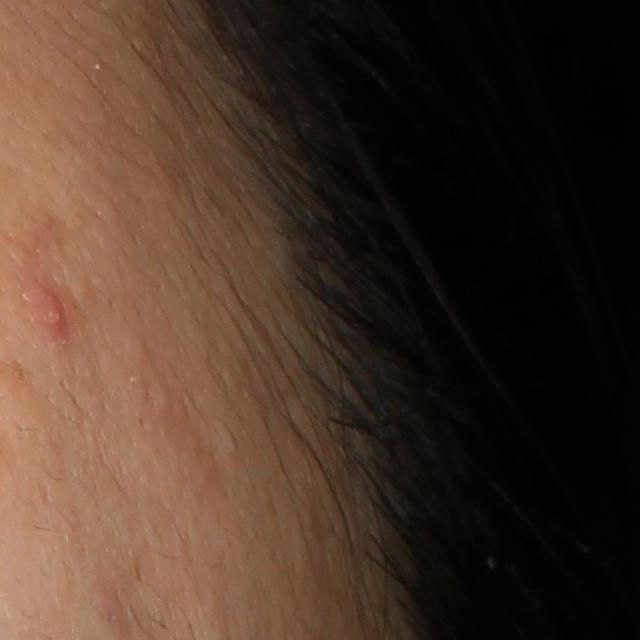papule: (29, 287, 73, 343)
